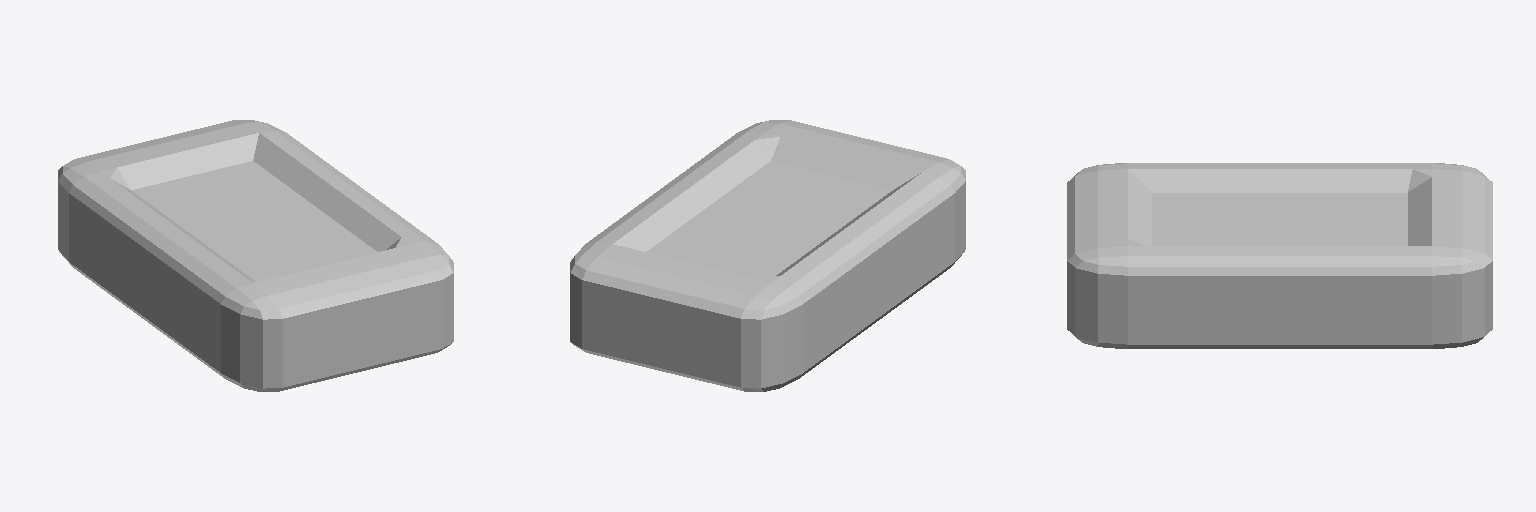
The model's file is savon.obj.
The picture shows the model from 3 angles: view 1: azimuth 30°, elevation 25°; view 2: azimuth 150°, elevation 25°; view 3: azimuth 270°, elevation 25°; orthographic projection.
Visible parts, largest first — view 1: Cube; view 2: Cube; view 3: Cube.
Boxes of the visible parts, box(x1,y1,x2,y2) form: Cube: box(58, 120, 453, 391); Cube: box(570, 120, 965, 391); Cube: box(1067, 163, 1492, 348).
Size of the model in its own units: 0.0241 by 0.01 by 0.04.